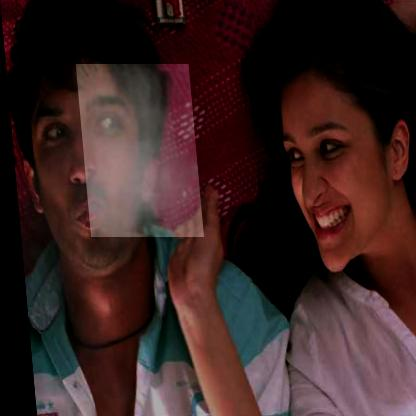smoke: (74, 64, 200, 237)
